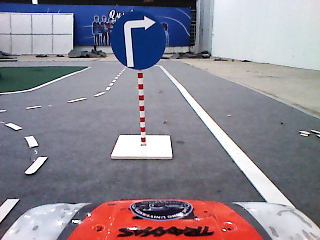turn: (107, 9, 168, 71)
